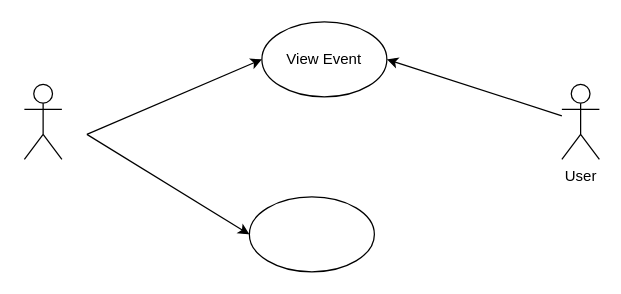
Some shapes in this 621 by 294 pixel diagram are drawn without their labels. Here are the shapes that lost their labels. From the top down, the box of each, then its label:
(23, 83, 62, 159): Admin
(248, 196, 374, 272): Create event
